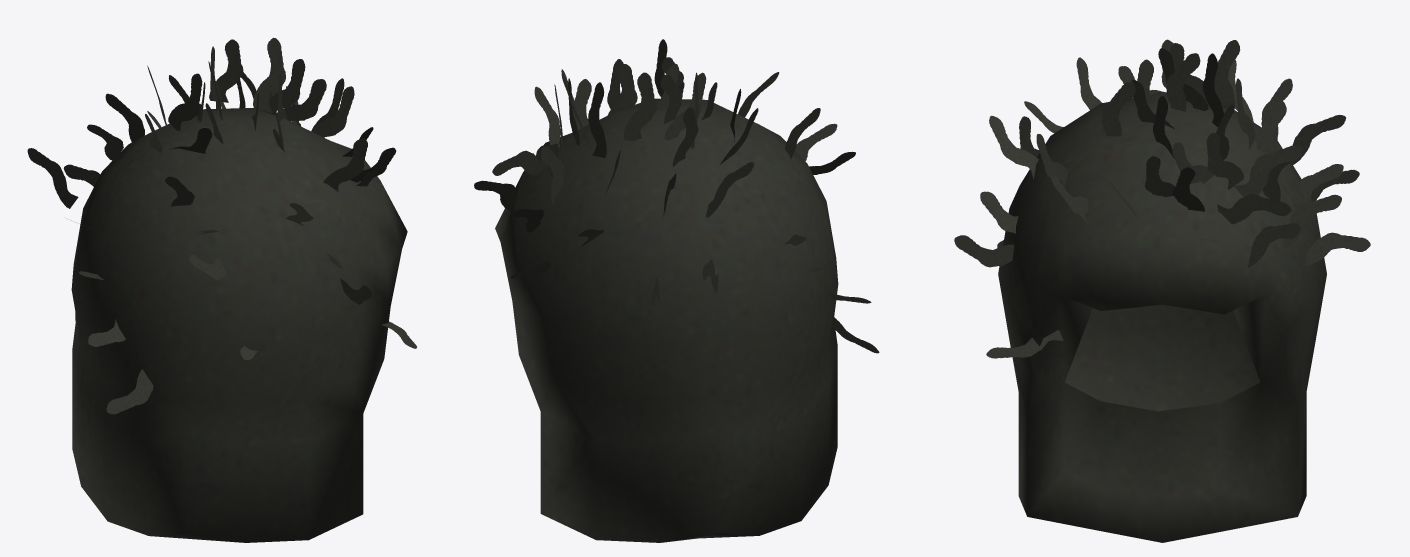
The model's file is HairMessy.fbx.
The picture shows the model from 3 angles, left to right: view 1: azimuth 30°, elevation 25°; view 2: azimuth 150°, elevation 25°; view 3: azimuth 270°, elevation 25°; orthographic projection. The views are drawn at different scales.
Visible parts, largest first — view 1: HairMessy; view 2: HairMessy; view 3: HairMessy.
Part boxes in pixels (x1,y1,x2,y2): HairMessy: [27, 37, 416, 542]; HairMessy: [474, 39, 879, 542]; HairMessy: [954, 39, 1370, 542].
Size of the model in its own units: 318 by 428 by 363.
